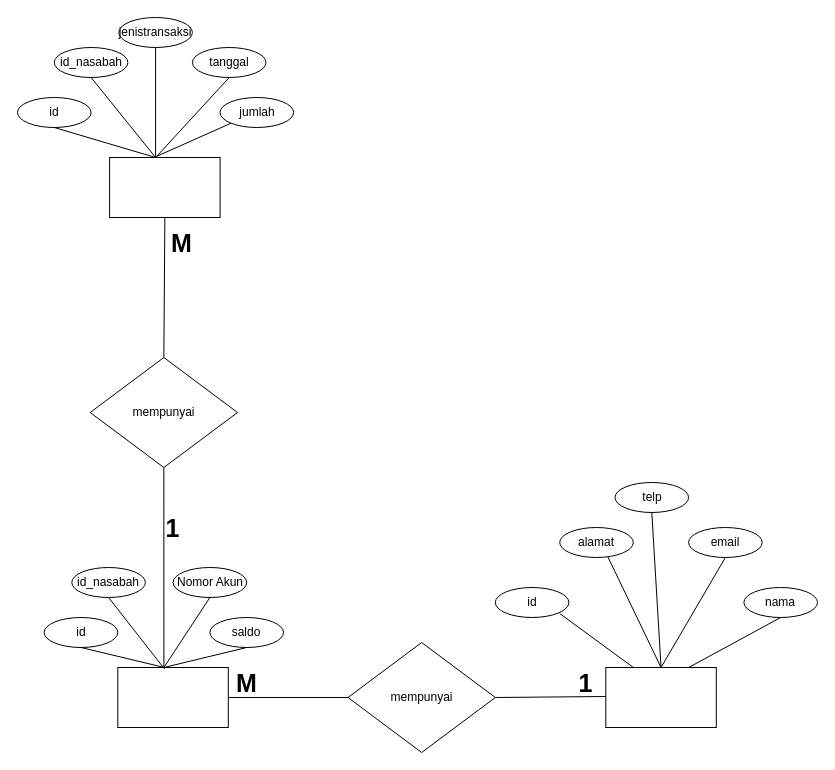
Some shapes in this 835 by 770 pixel diagram are drawn without their labels. Each missing label, with the centre of its shape:
"Akun" goes at [172,697].
"Nasabah" goes at [660,697].
"Transaksi" goes at [164,187].
